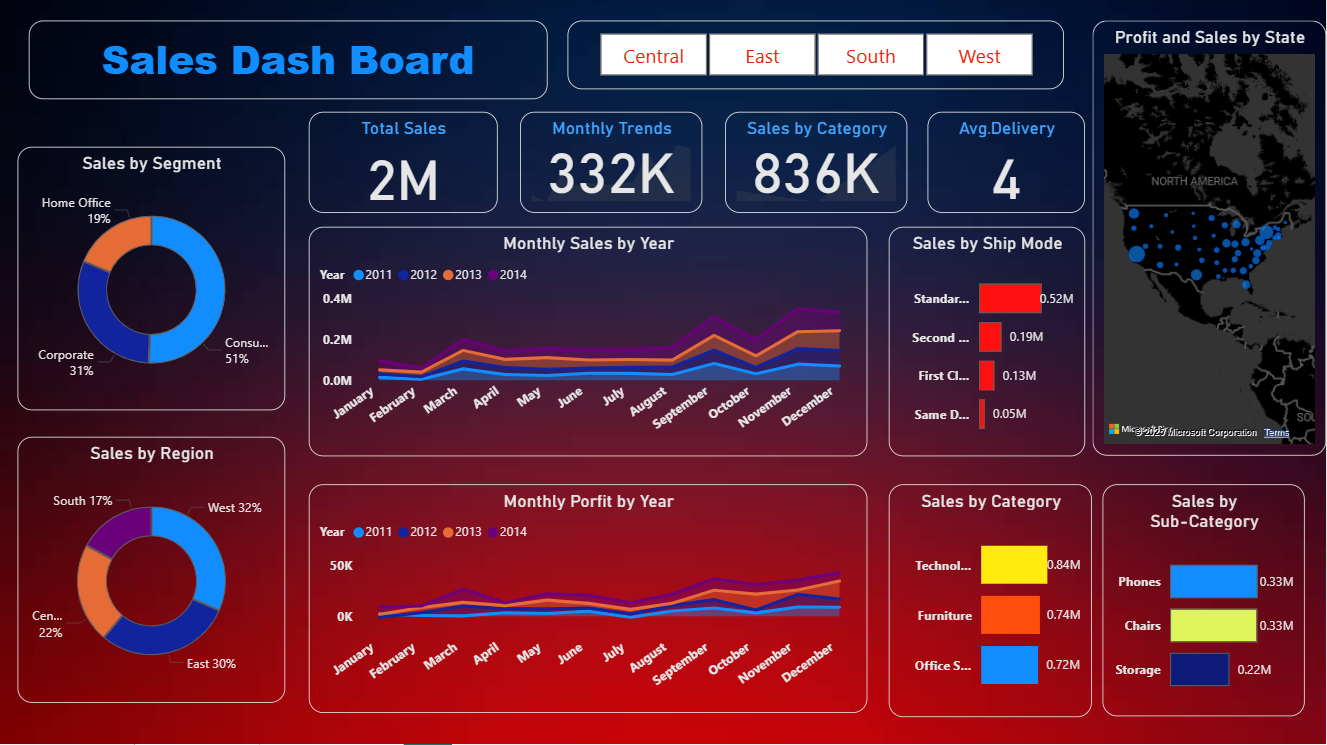

The dashboard page shown, as its layout file describes it:
{"tool":"powerbi","page":{"name":"DashBoard","canvas":[1280,720],"ordinal":0},"visuals":[{"type":"clusteredBarChart","title":"Sales by Category","fields":{"Category":["Ecommerce Sales Analysis.Category"],"Y":["Sum(Ecommerce Sales Analysis.Sales)"]},"box":[857.5,468.8,196.2,225],"z":0},{"type":"clusteredBarChart","title":"Sales by Sub-Category","fields":{"Category":["Ecommerce Sales Analysis.Sub-Category"],"Y":["Sum(Ecommerce Sales Analysis.Sales)"]},"box":[1064.1,469.3,195.4,224.4],"z":1000},{"type":"clusteredBarChart","title":"Sales by Ship Mode","fields":{"Category":["Ecommerce Sales Analysis.Ship Mode"],"Y":["Sum(Ecommerce Sales Analysis.Sales)"]},"box":[857.8,220.8,189.4,222],"z":2000},{"type":"stackedAreaChart","title":"Monthly Sales by Year","fields":{"Y":["Sum(Ecommerce Sales Analysis.Sales)"],"Category":["Ecommerce Sales Analysis.Order Date.Variation.Date Hierarchy.Month"],"Series":["Ecommerce Sales Analysis.Order Date.Variation.Date Hierarchy.Year"]},"box":[298,220.8,539.3,222],"z":3000},{"type":"stackedAreaChart","title":"Monthly Porfit by Year","fields":{"Category":["Ecommerce Sales Analysis.Order Date.Variation.Date Hierarchy.Month"],"Series":["Ecommerce Sales Analysis.Order Date.Variation.Date Hierarchy.Year"],"Y":["Sum(Ecommerce Sales Analysis.Profit)"]},"box":[298,469.3,539.3,220.8],"z":4000},{"type":"map","title":"Profit and Sales by State","fields":{"Category":["Ecommerce Sales Analysis.State"],"Size":["Sum(Ecommerce Sales Analysis.Sales)"]},"box":[1054.4,21.7,225.6,419.8],"z":5000},{"type":"donutChart","title":" Sales by Segment","fields":{"Category":["Ecommerce Sales Analysis.Segment"],"Y":["Sum(Ecommerce Sales Analysis.Sales)"]},"box":[16.9,143.6,258.2,254.6],"z":6000},{"type":"donutChart","title":" Sales by Region","fields":{"Category":["Ecommerce Sales Analysis.Region"],"Y":["Sum(Ecommerce Sales Analysis.Sales)"]},"box":[16.9,423.5,258.2,257],"z":7000},{"type":"slicer","fields":{"Values":["Ecommerce Sales Analysis.Region"]},"box":[547.7,21.7,479,66.4],"z":8000},{"type":"textbox","box":[27.7,21.7,500.7,76],"z":9000},{"type":"card","title":" Total Sales","fields":{"Values":["Ecommerce Sales Analysis.Total Sales"]},"box":[298,109.8,182.2,97.7],"z":10000},{"type":"kpi","title":"Sales by Category","fields":{"Indicator":["Sum(Ecommerce Sales Analysis.Sales)"],"TrendLine":["Ecommerce Sales Analysis.Category"]},"box":[699.7,109.8,176.1,97.7],"z":11000},{"type":"kpi","title":"Monthly Trends","fields":{"TrendLine":["Ecommerce Sales Analysis.Month"],"Indicator":["Sum(Ecommerce Sales Analysis.Sales)"]},"box":[501.9,109.8,176.1,97.7],"z":12000},{"type":"card","title":"Avg.Delivery","fields":{"Values":["Avg(Ecommerce Sales Analysis.AverageDelivery)"]},"box":[895.2,109.8,152,97.7],"z":13000}]}

Visuals, with their boxes in screenshot pixels (x1, y1, x2, y2), scaled from the page's 1280x720 canvas onto the 1327x745 screenshot:
"Sales by Category" clusteredBarChart: [left=889, top=485, right=1092, bottom=718]
"Sales by Sub-Category" clusteredBarChart: [left=1103, top=486, right=1306, bottom=718]
"Sales by Ship Mode" clusteredBarChart: [left=889, top=228, right=1086, bottom=458]
"Monthly Sales by Year" stackedAreaChart: [left=309, top=228, right=868, bottom=458]
"Monthly Porfit by Year" stackedAreaChart: [left=309, top=486, right=868, bottom=714]
"Profit and Sales by State" map: [left=1093, top=22, right=1326, bottom=457]
" Sales by Segment" donutChart: [left=18, top=149, right=285, bottom=412]
" Sales by Region" donutChart: [left=18, top=438, right=285, bottom=704]
slicer - Ecommerce Sales Analysis.Region: [left=568, top=22, right=1064, bottom=91]
textbox: [left=29, top=22, right=548, bottom=101]
" Total Sales" card: [left=309, top=114, right=498, bottom=215]
"Sales by Category" kpi: [left=725, top=114, right=908, bottom=215]
"Monthly Trends" kpi: [left=520, top=114, right=703, bottom=215]
"Avg.Delivery" card: [left=928, top=114, right=1086, bottom=215]
